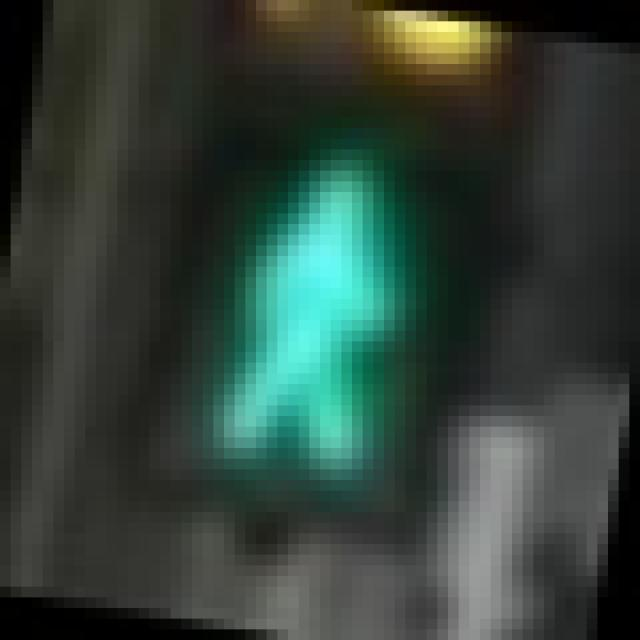green_light: (106, 64, 502, 534)
